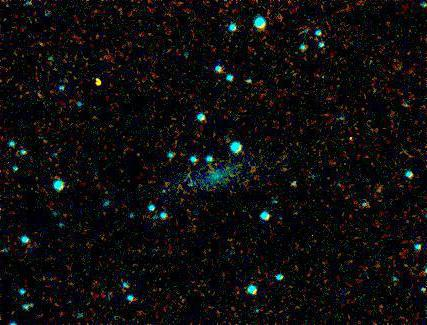star: (84, 66, 114, 96)
